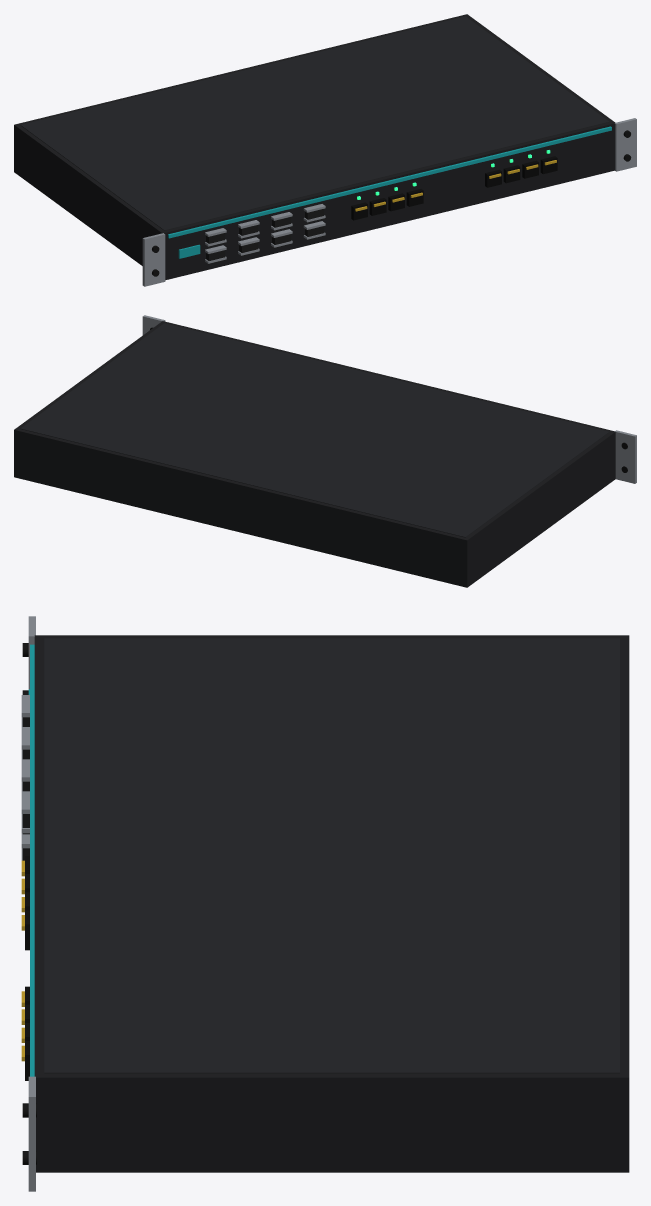
File: 30-switch-rackmount-sfp-teal.glb
3 views of the same model, one above another, from view 1: azimuth 30°, elevation 25°; view 2: azimuth 150°, elevation 25°; view 3: azimuth 270°, elevation 25° (orthographic). The views are drawn at different scales.
Size of the model in its own units: 0.478 by 0.0445 by 0.2555.
